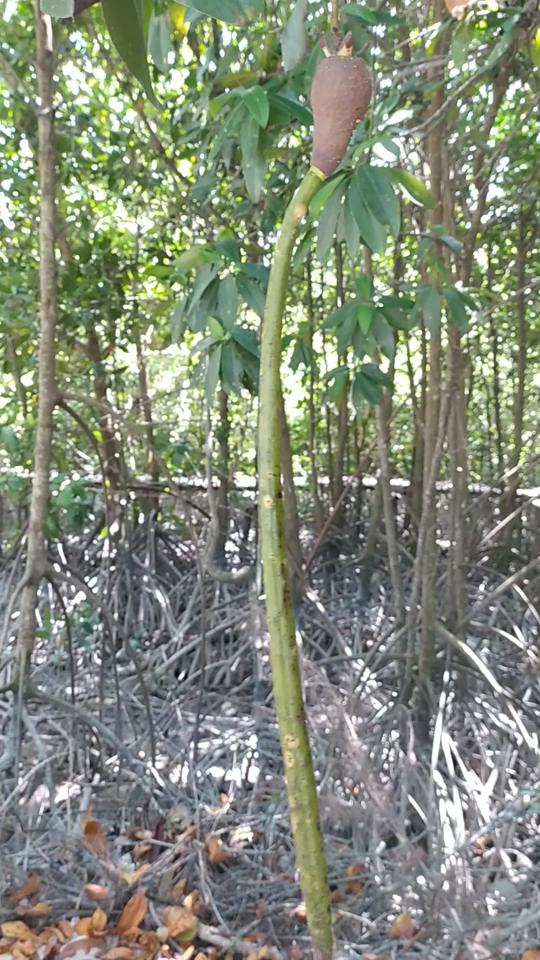setengah matang: (242, 27, 382, 958)
